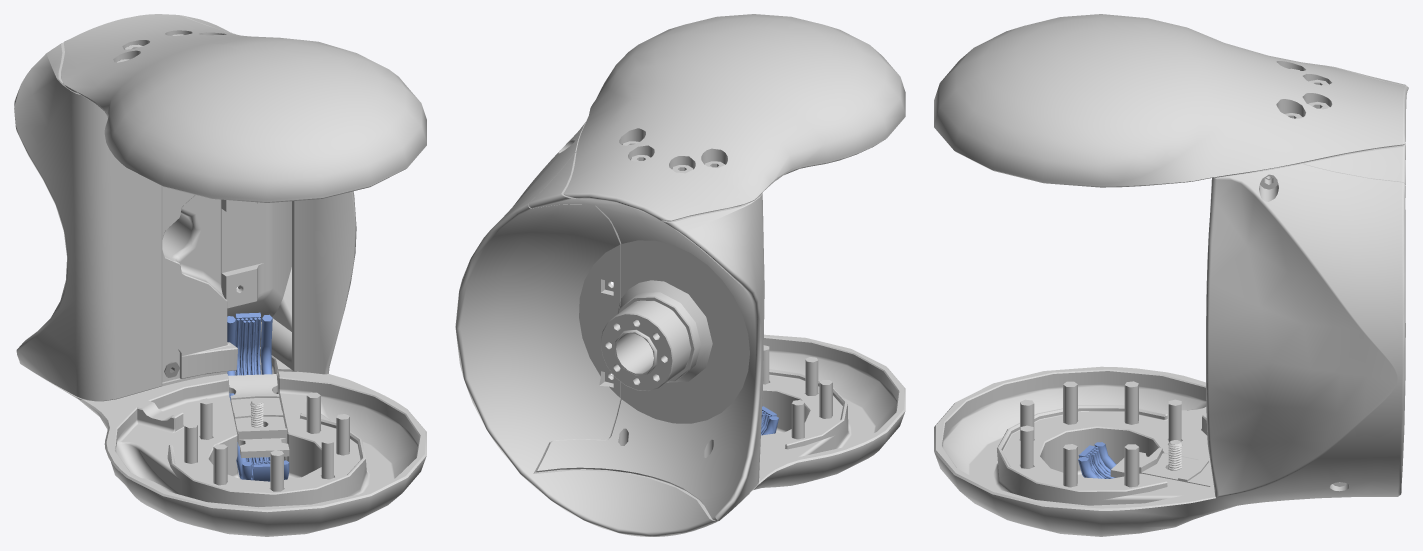
Rendered from elbow1_left.dae.
3 renders of one model, left to right at view 1: azimuth 30°, elevation 25°; view 2: azimuth 150°, elevation 25°; view 3: azimuth 270°, elevation 25°, orthographic. The views are drawn at different scales.
Parts seen in each view (by area): view 1: elbow1_left; view 2: elbow1_left; view 3: elbow1_left.
Boxes of the visible parts, <box> form: elbow1_left: <box>14,14,426,536</box>; elbow1_left: <box>455,14,905,536</box>; elbow1_left: <box>934,14,1408,536</box>.
Size of the model in its own units: 0.1009 by 0.1273 by 0.1365.
